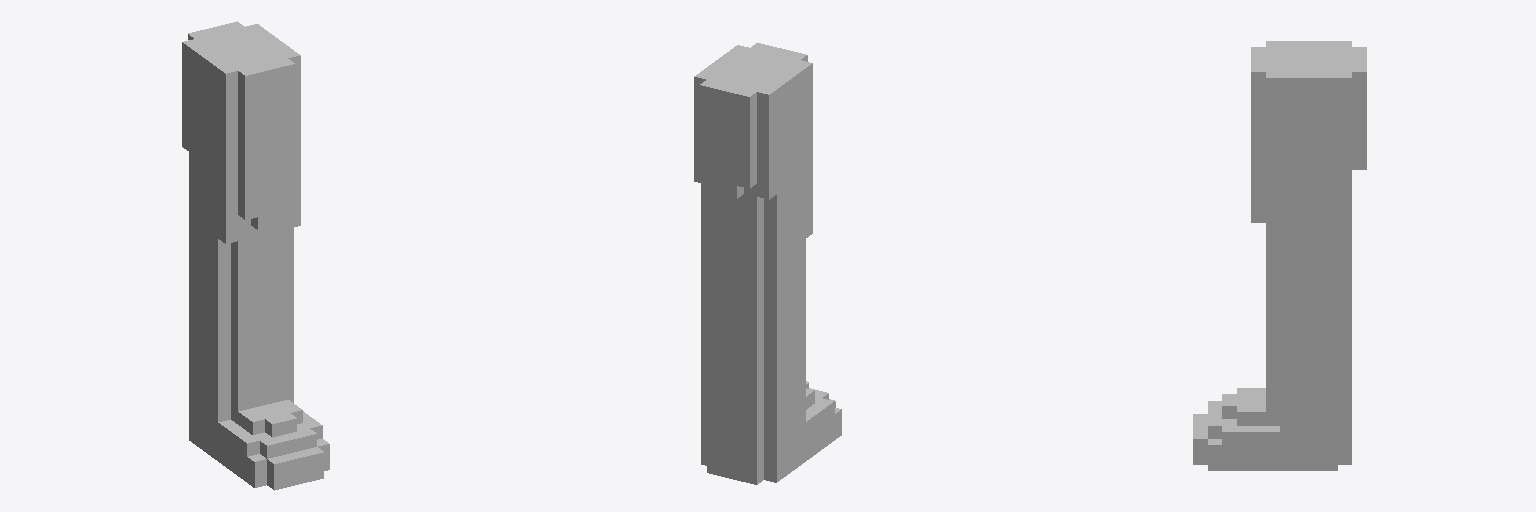
Rendered from Movement Monster-9-PiernaCompleta.obj.
The picture shows the model from 3 angles: view 1: azimuth 30°, elevation 25°; view 2: azimuth 150°, elevation 25°; view 3: azimuth 270°, elevation 25°; orthographic projection.
Visible parts, largest first — view 1: PiernaCompleta; view 2: PiernaCompleta; view 3: PiernaCompleta.
Boxes of the visible parts, x1,y1,x2,y2 form: PiernaCompleta: [182, 21, 329, 490]; PiernaCompleta: [694, 43, 841, 484]; PiernaCompleta: [1193, 41, 1366, 470].
Size of the model in its own units: 0.6 by 3 by 1.2.